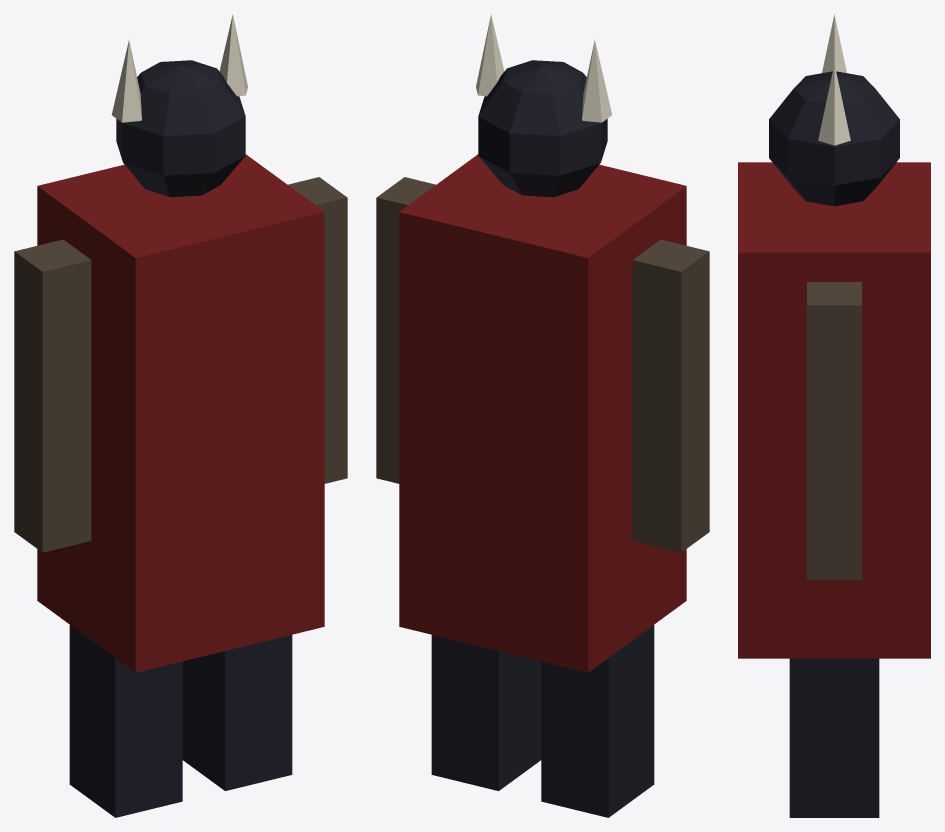
File: r02-underground-caves__brute.obj
3 renders of one model, left to right at view 1: azimuth 30°, elevation 25°; view 2: azimuth 150°, elevation 25°; view 3: azimuth 270°, elevation 25°, orthographic. The views are drawn at different scales.
Visible parts, largest first — view 1: brute_torso, brute_arm_l, brute_leg_l, brute_leg_r, brute_head, brute_arm_r, brute_horn_l, brute_horn_r; view 2: brute_torso, brute_arm_l, brute_leg_l, brute_leg_r, brute_head, brute_arm_r, brute_horn_l, brute_horn_r; view 3: brute_torso, brute_arm_r, brute_leg_r, brute_head, brute_horn_r, brute_horn_l.
Part boxes in pixels (x1,y1,x2,y2): brute_torso: [37, 154, 324, 672]; brute_arm_l: [14, 239, 91, 552]; brute_leg_l: [69, 625, 182, 817]; brute_leg_r: [182, 635, 292, 790]; brute_head: [116, 60, 245, 197]; brute_arm_r: [288, 177, 347, 483]; brute_horn_l: [111, 39, 141, 122]; brute_horn_r: [219, 14, 247, 96]; brute_torso: [399, 154, 686, 672]; brute_arm_l: [632, 239, 709, 552]; brute_leg_l: [541, 625, 654, 817]; brute_leg_r: [431, 635, 541, 790]; brute_head: [478, 60, 607, 197]; brute_arm_r: [376, 177, 435, 483]; brute_horn_l: [582, 39, 612, 122]; brute_horn_r: [476, 14, 504, 96]; brute_torso: [738, 162, 930, 658]; brute_arm_r: [807, 282, 861, 579]; brute_leg_r: [789, 658, 879, 817]; brute_head: [769, 71, 899, 206]; brute_horn_r: [818, 64, 850, 145]; brute_horn_l: [822, 14, 846, 72].
Size of the model in its own units: 1 by 2.36 by 0.56.
